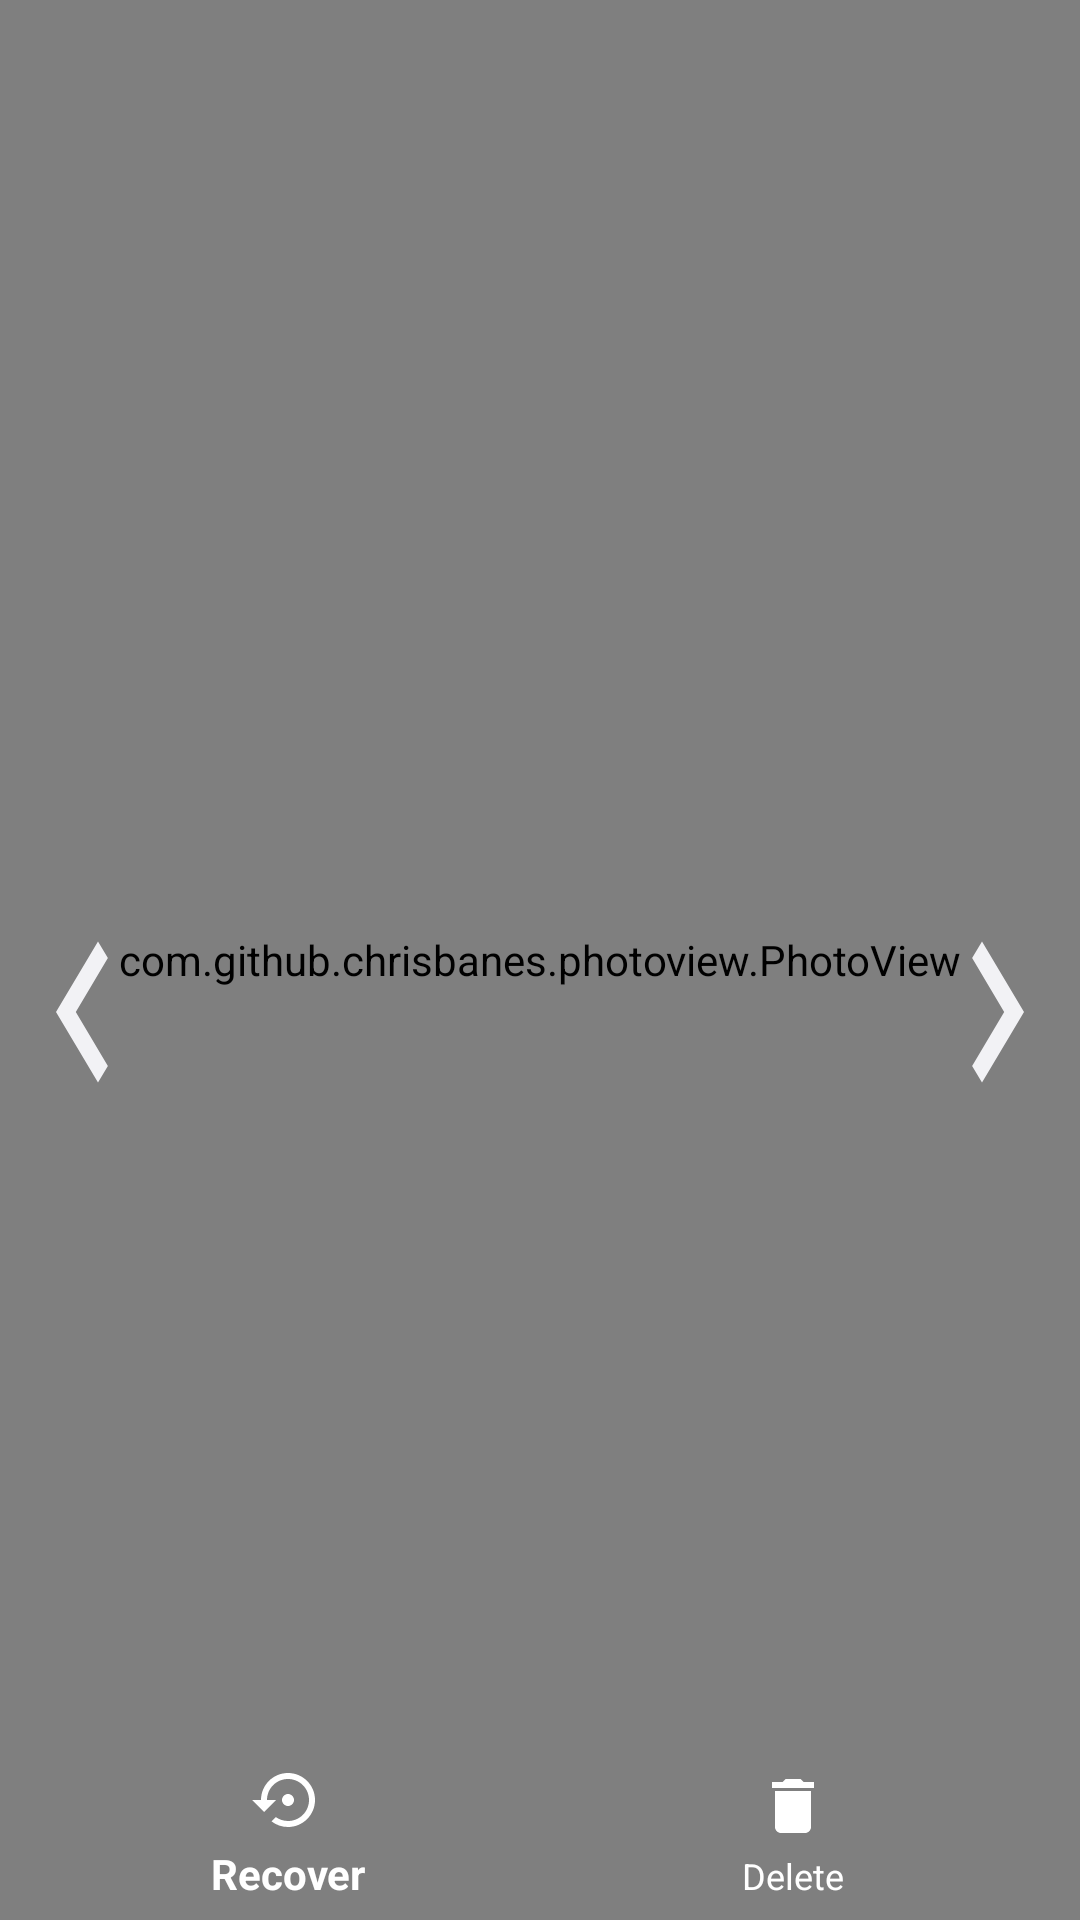

Point at icon controls on the screen. Image size 1080 × 1920, points as point (x, y).
keyboard arrow left: point (109, 1012)
keyboard arrow right: point (968, 1012)
